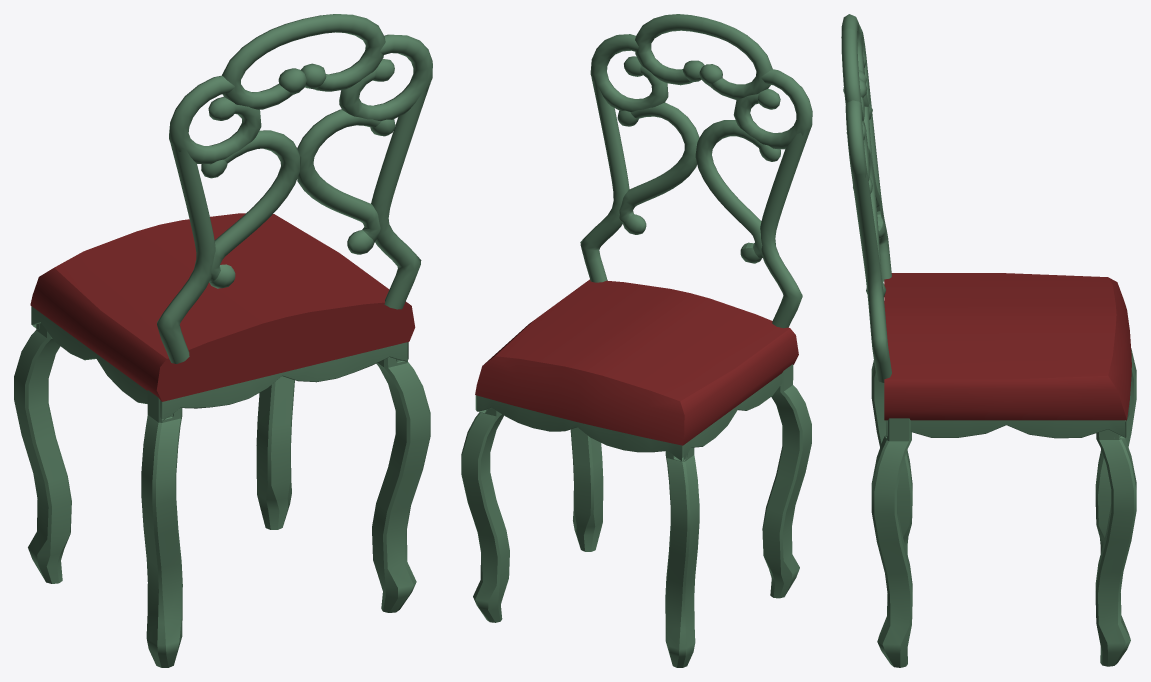
File: BgMD_chair (4).fbx
3 renders of one model, left to right at view 1: azimuth 30°, elevation 25°; view 2: azimuth 150°, elevation 25°; view 3: azimuth 270°, elevation 25°, orthographic. The views are drawn at different scales.
Visible parts, largest first — view 1: Bg_chair; view 2: Bg_chair; view 3: Bg_chair.
Boxes of the visible parts, x1=… form: Bg_chair: x1=14, y1=14, x2=432, y2=667; Bg_chair: x1=461, y1=14, x2=812, y2=667; Bg_chair: x1=841, y1=14, x2=1136, y2=667.
Size of the model in its own units: 53.18 by 117 by 53.16.
Materials: 1 (1 with a texture image).
